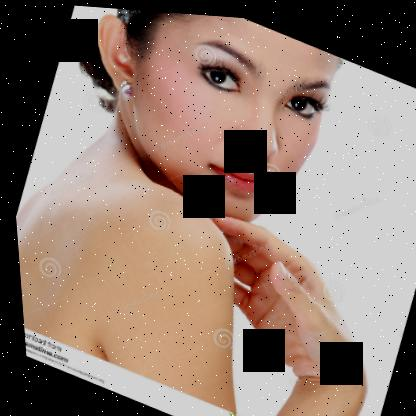Female: (50, 3, 349, 243)
